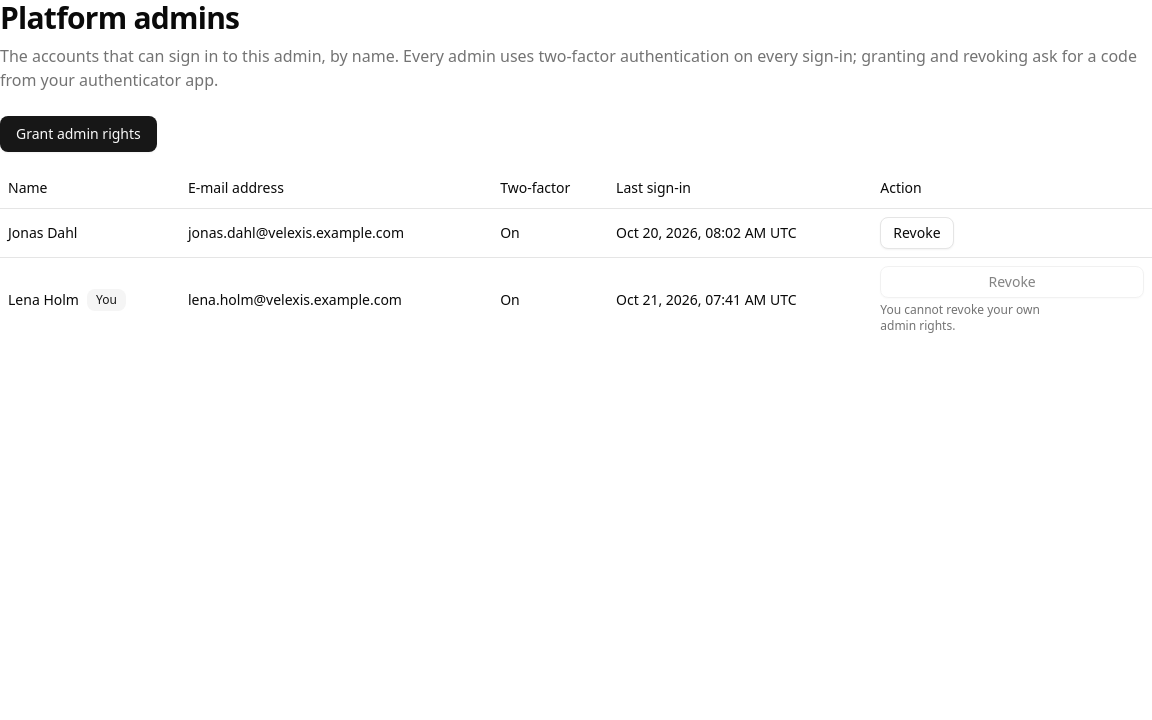
Test case: admins/page.tsx and admins/actions.ts: grant and revoke platform admin rights › grants admin rights by e-mail address with a reason, after the step-up
Click the button "Grant admin rights": (78, 134) x1=0 y1=116 x2=157 y2=152
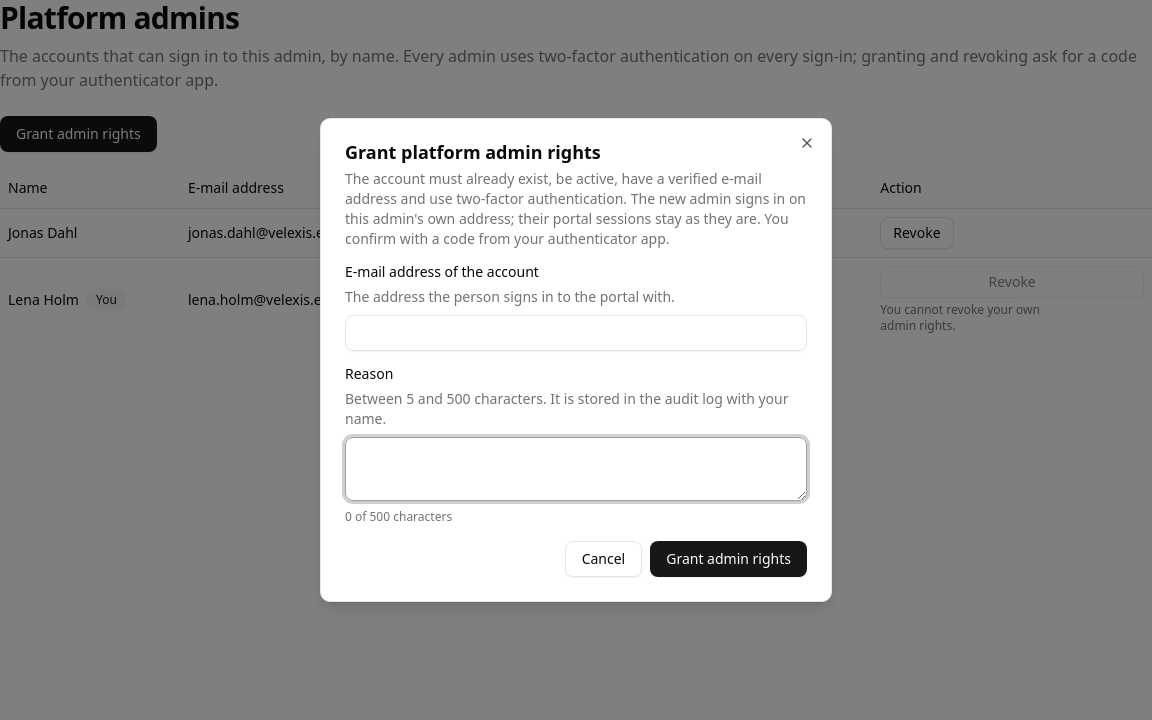
In the field labelled "E-mail address of the account": (576, 333) x1=345 y1=315 x2=807 y2=351, type " anna.berg@example.com "
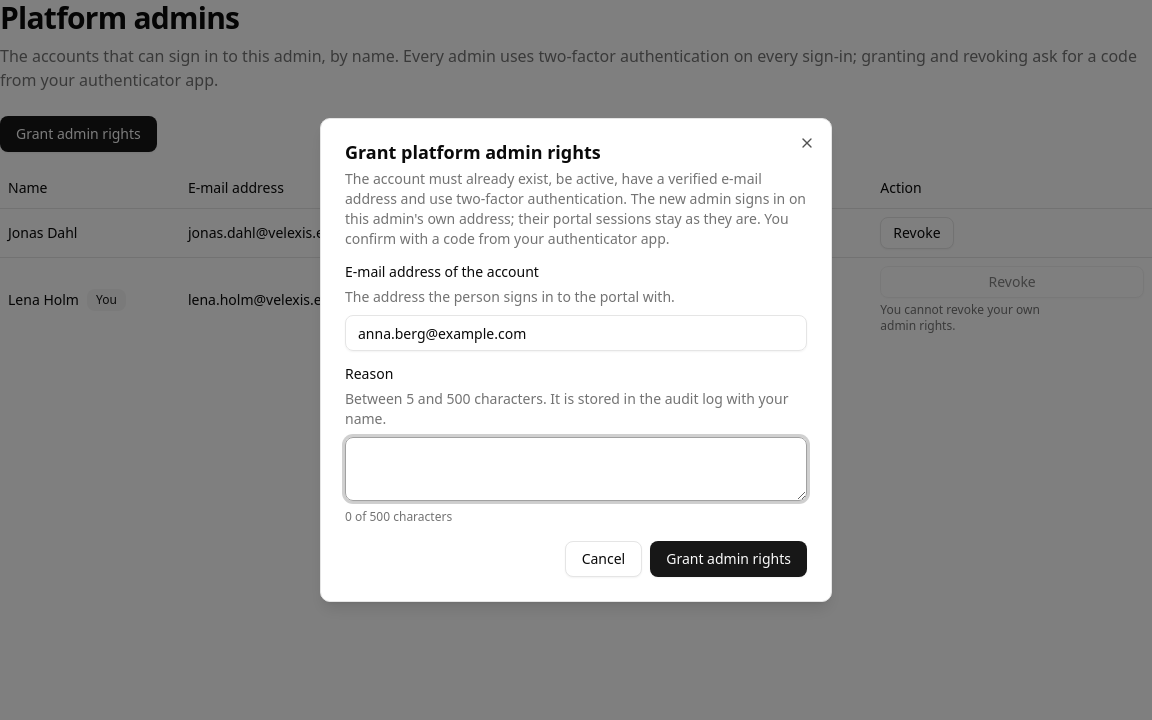
In the text box labelled "Reason": (576, 469) x1=345 y1=437 x2=807 y2=501, type "Identity confirmed on a video call with the passport (SUP-431)."
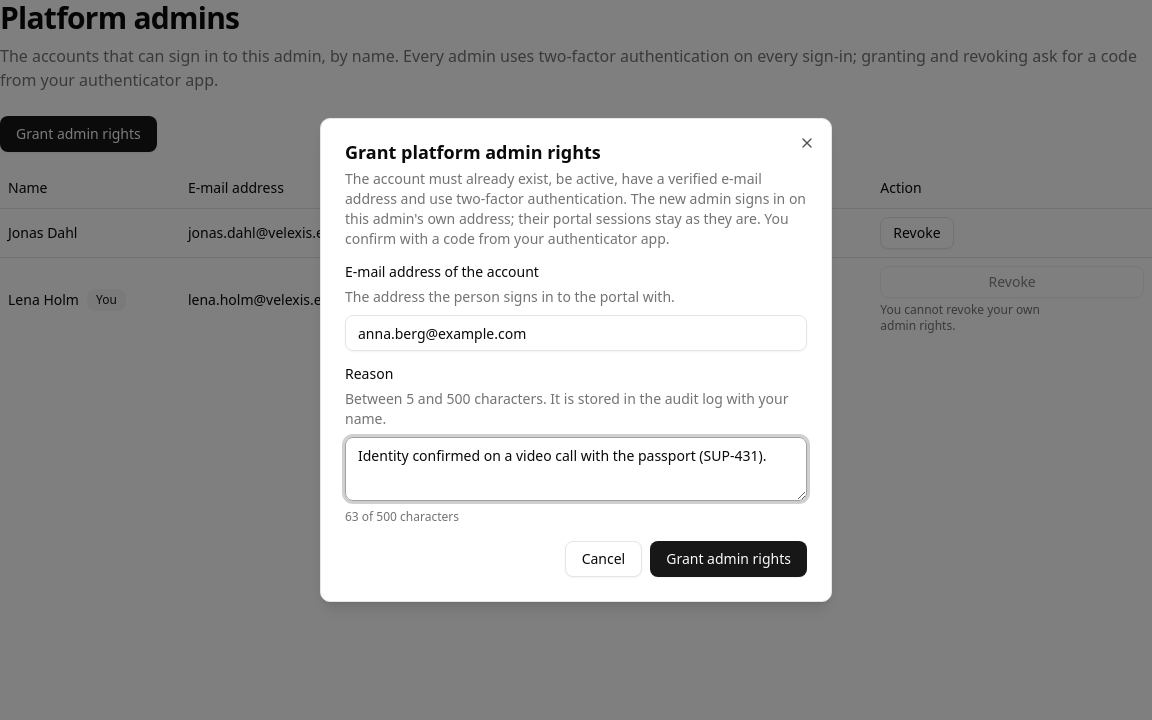
Submit the form named "Grant admin rights", box x1=345 y1=265 x2=807 y2=577
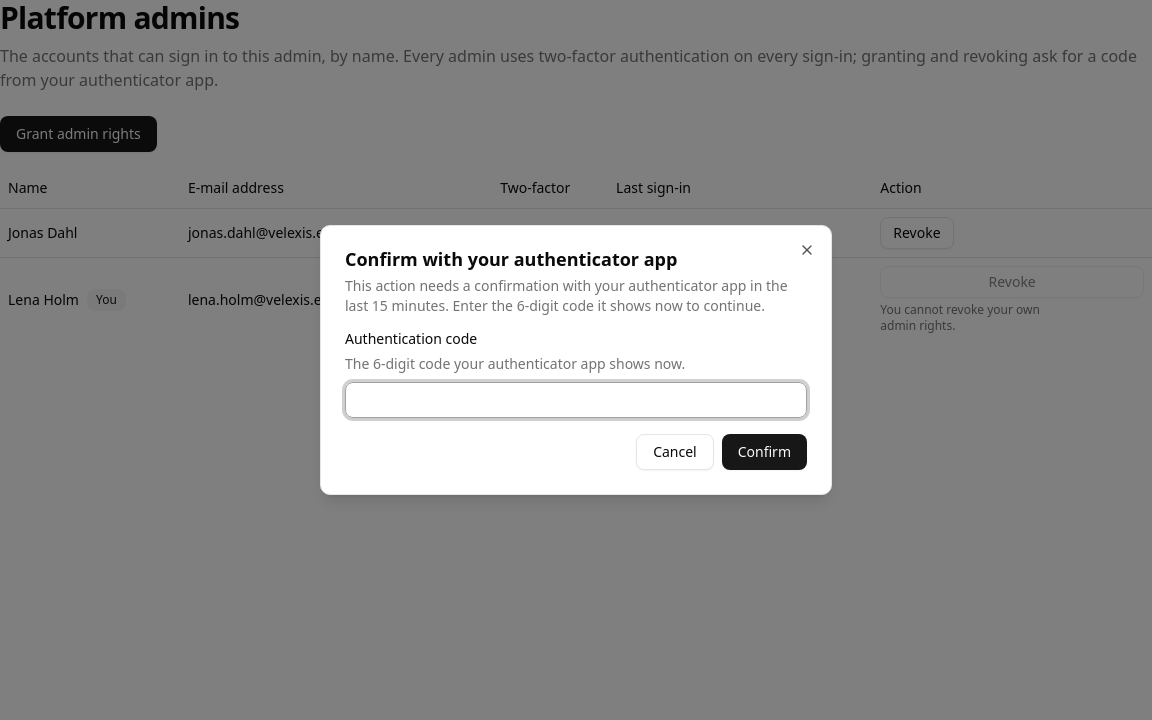
In the field labelled "Authentication code": (576, 400) x1=345 y1=382 x2=807 y2=418, type "492039"
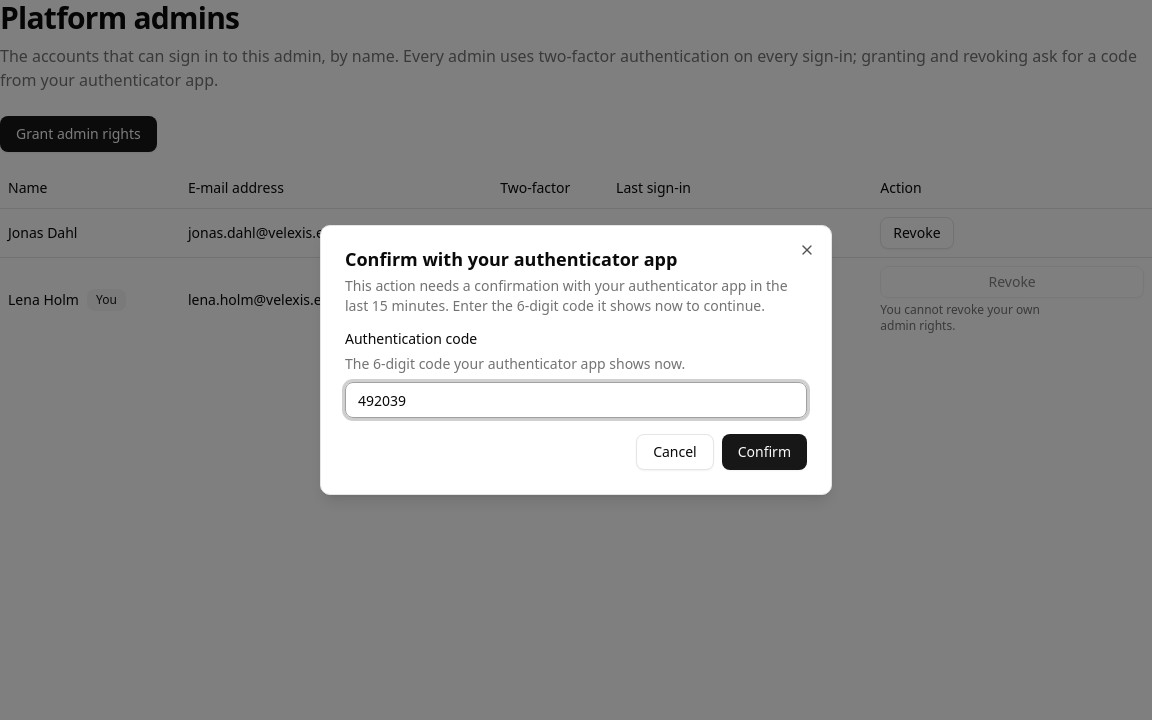
Submit the form named "Confirm", box x1=345 y1=332 x2=807 y2=470
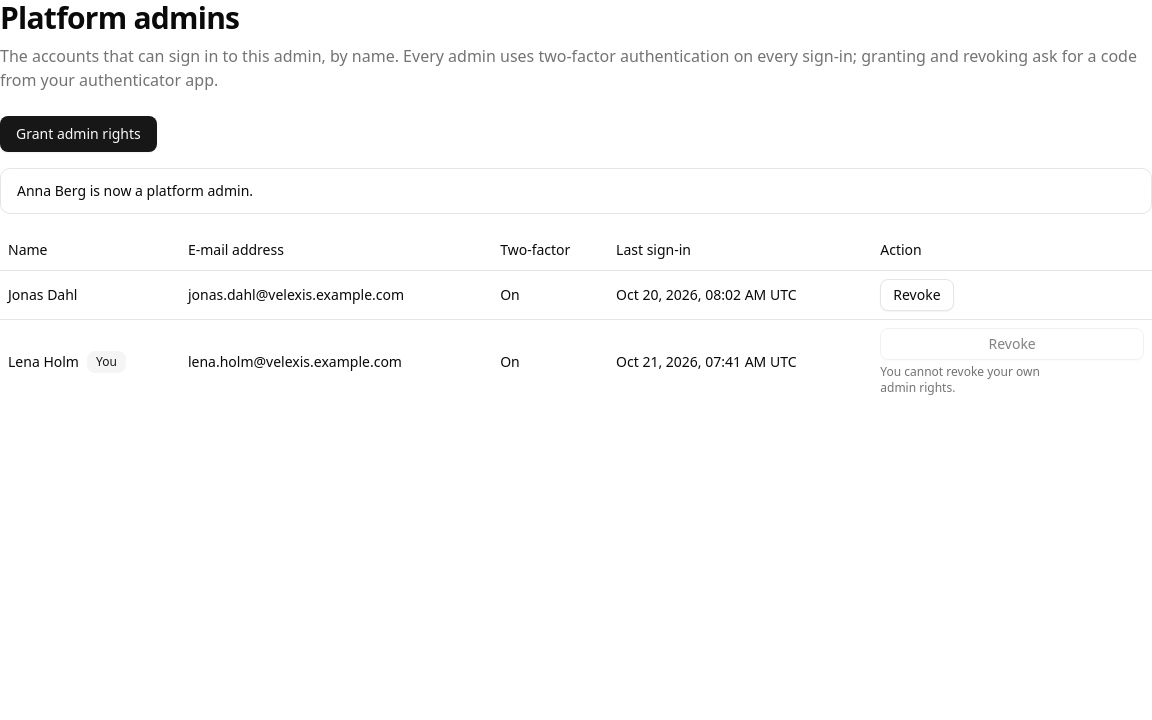
Check: the dialog is gone
